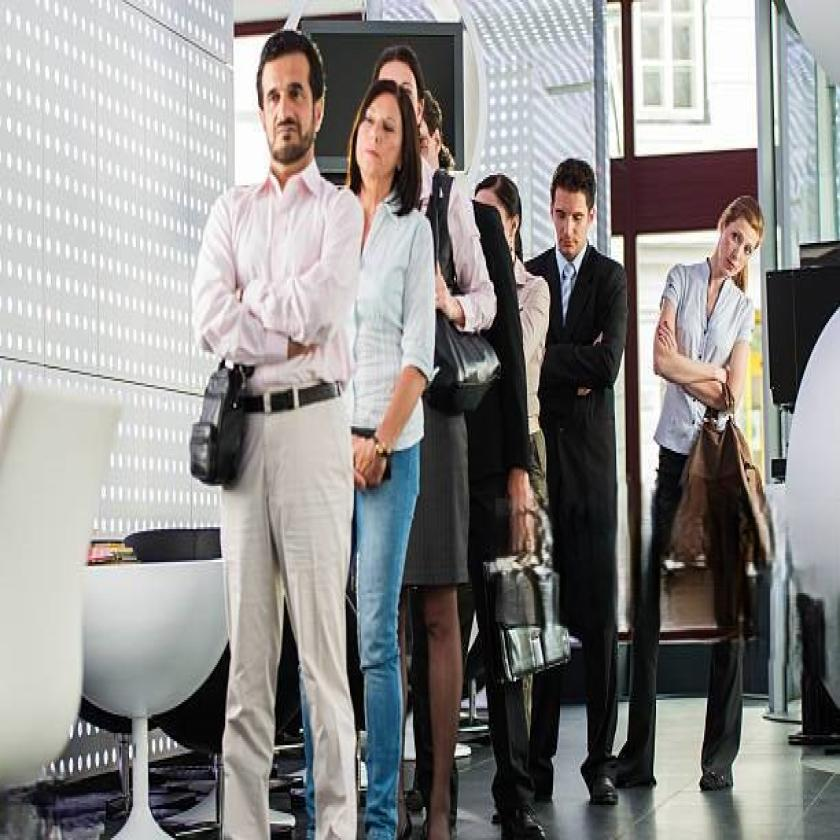Sin_casco: (256, 27, 326, 168), (342, 84, 412, 204), (713, 189, 765, 291), (550, 154, 598, 254)
